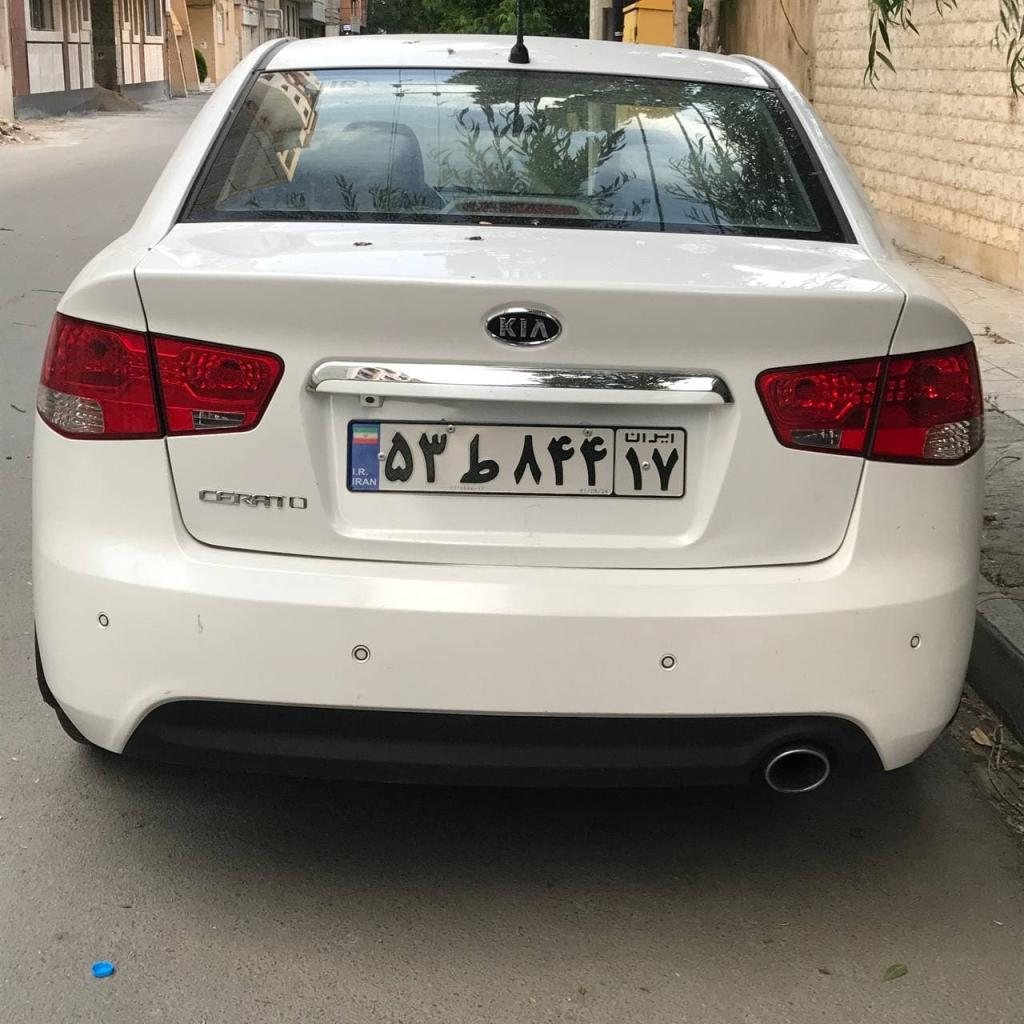Plates: (347, 420, 686, 496)
